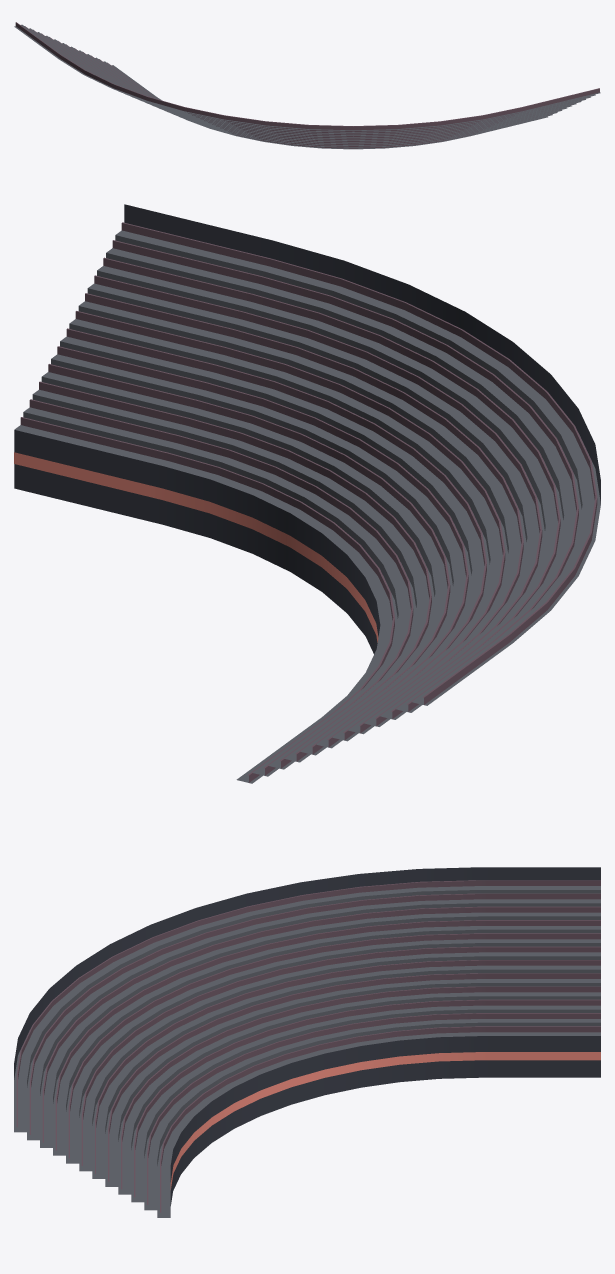
The model's file is SM_BowlUp2.glb.
3 views of the same model, one above another, from view 1: azimuth 30°, elevation 25°; view 2: azimuth 150°, elevation 25°; view 3: azimuth 270°, elevation 25° (orthographic). The views are drawn at different scales.
Visible parts, largest first — view 1: SM_BowlUp2; view 2: SM_BowlUp2; view 3: SM_BowlUp2.
Part boxes in pixels (bbox=[...]): SM_BowlUp2: bbox=[14, 22, 600, 149]; SM_BowlUp2: bbox=[14, 204, 600, 783]; SM_BowlUp2: bbox=[14, 867, 600, 1217].
Size of the model in its own units: 34.2 by 9.28 by 34.2.
